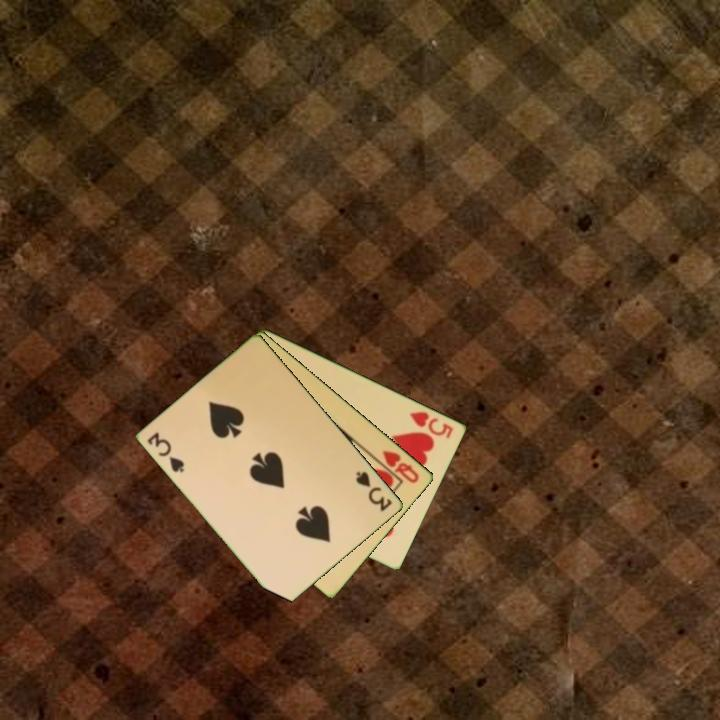3s: (144, 429, 188, 476), (352, 468, 395, 515)
5h: (406, 407, 457, 441)
Qh: (379, 447, 422, 486)
